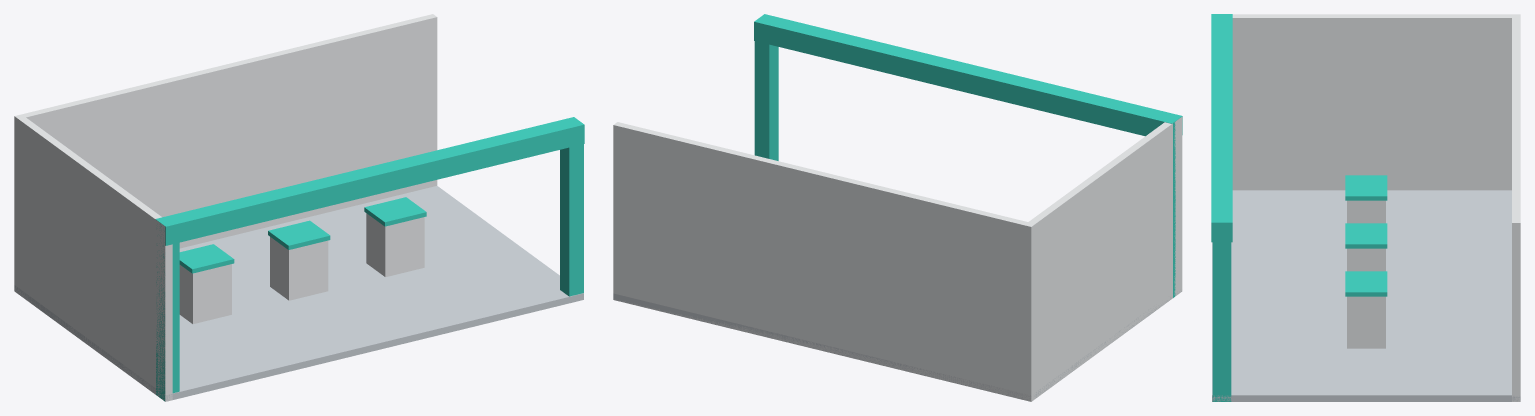
3 views of the same model, side by side, from view 1: azimuth 30°, elevation 25°; view 2: azimuth 150°, elevation 25°; view 3: azimuth 270°, elevation 25° (orthographic). The views are drawn at different scales.
Parts seen in each view (by area): view 1: Exhibition Booth Concept; view 2: Exhibition Booth Concept; view 3: Exhibition Booth Concept.
Part boxes in pixels (bbox=[...]): Exhibition Booth Concept: bbox=[14, 14, 584, 401]; Exhibition Booth Concept: bbox=[613, 14, 1182, 401]; Exhibition Booth Concept: bbox=[1211, 14, 1520, 401].
Bounding box in the file's own units: 8 × 3.2 × 5.02.
